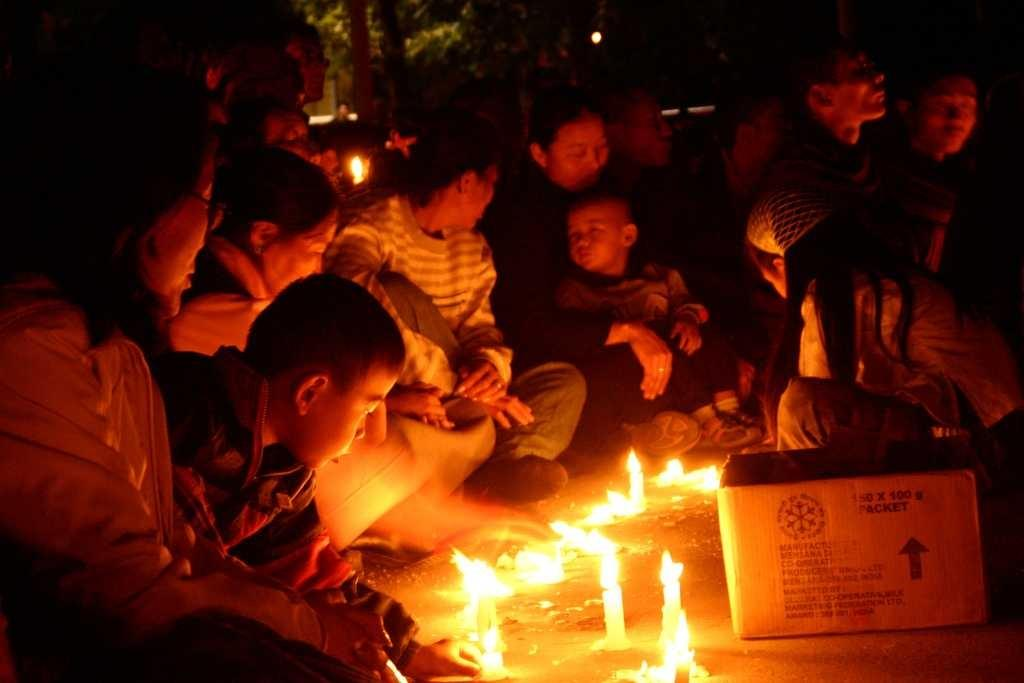fire: (457, 559, 505, 597), (525, 552, 565, 591), (663, 620, 687, 683), (594, 554, 625, 594), (663, 554, 679, 617), (551, 520, 583, 544), (678, 470, 721, 483)
